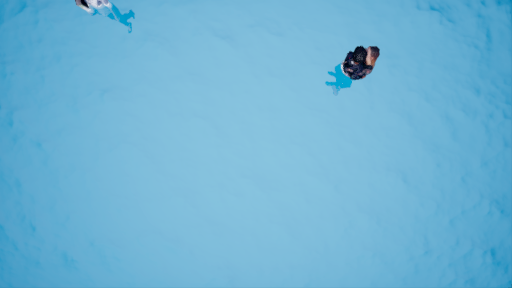person: (330, 37, 381, 93)
